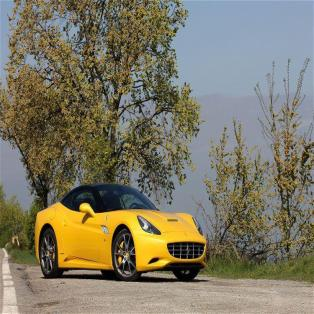Auto: (35, 182, 206, 284)
